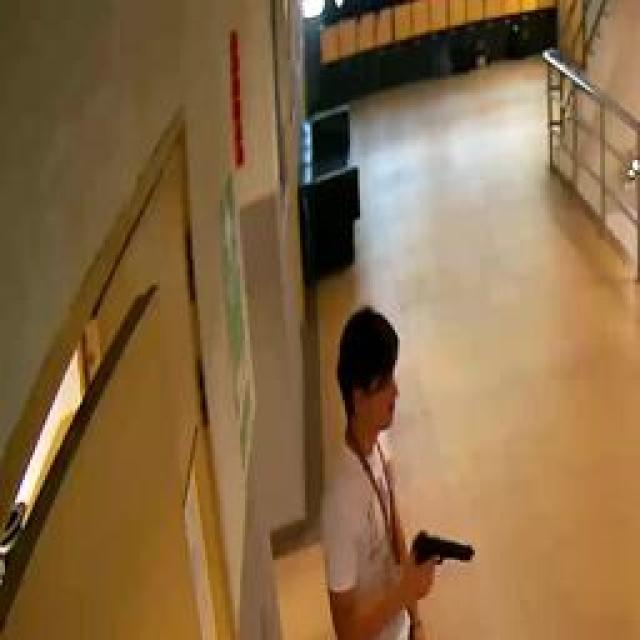Guns: (396, 515, 484, 600)
